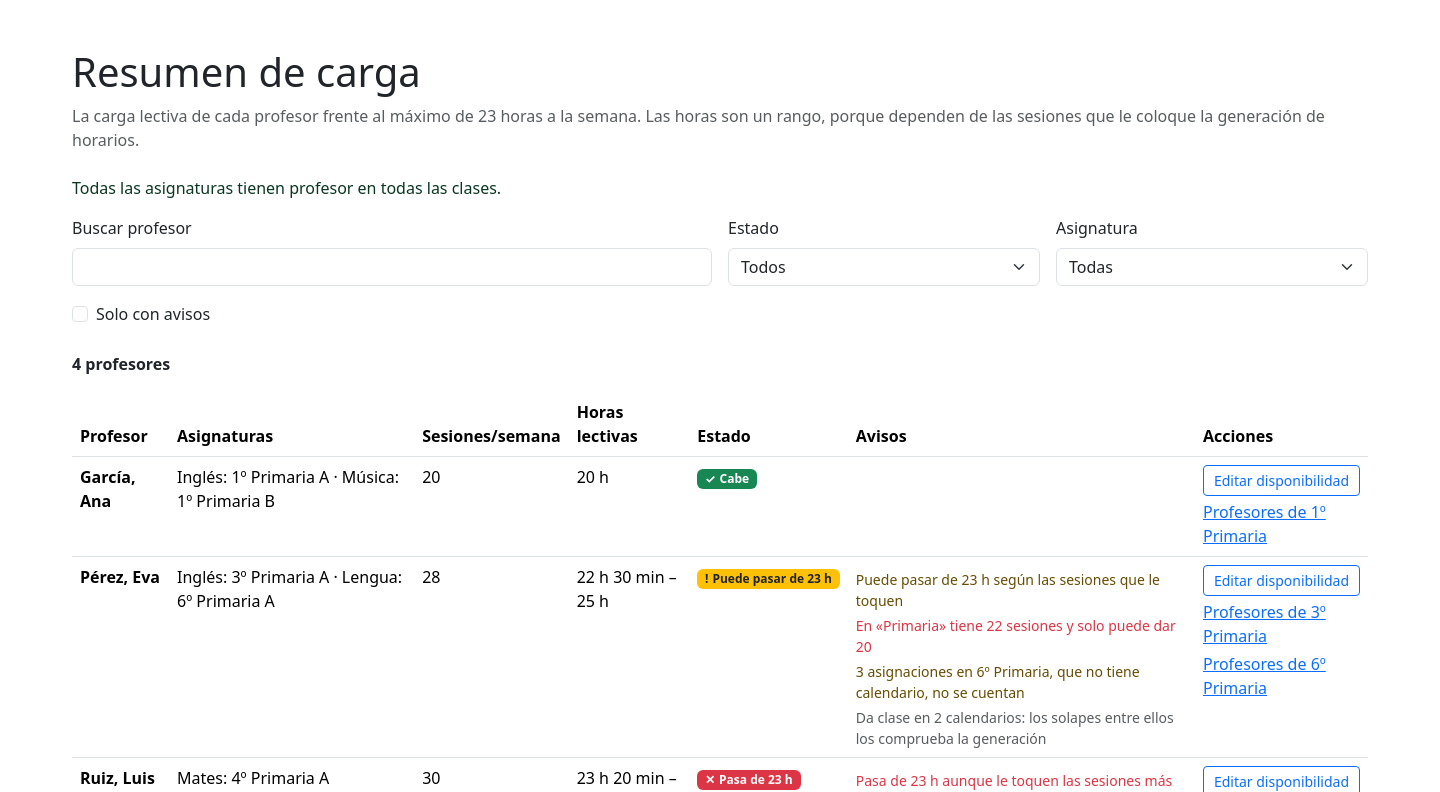
ProfessorsSummaryPage › filters and count › filters by the subject, offering the subjects any professor teaches by name
This screenshot has width=1440, height=792.
Select "Inglés" in the dropdown labelled "Asignatura" at (1212, 267), box [1056,248,1368,286]
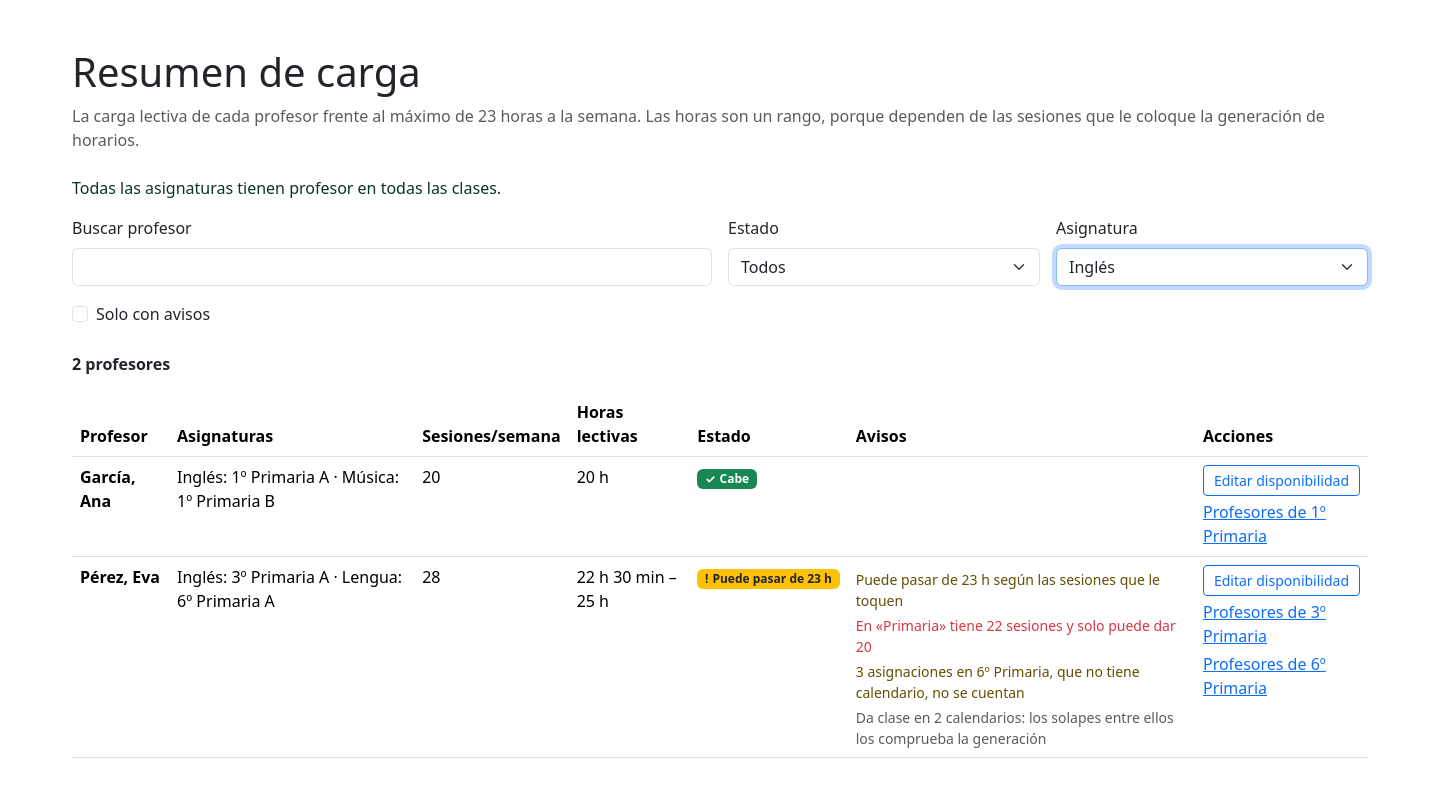
Expected: the message with test id "professors-summary-count" reads "2 profesores", [72,353,170,375]
